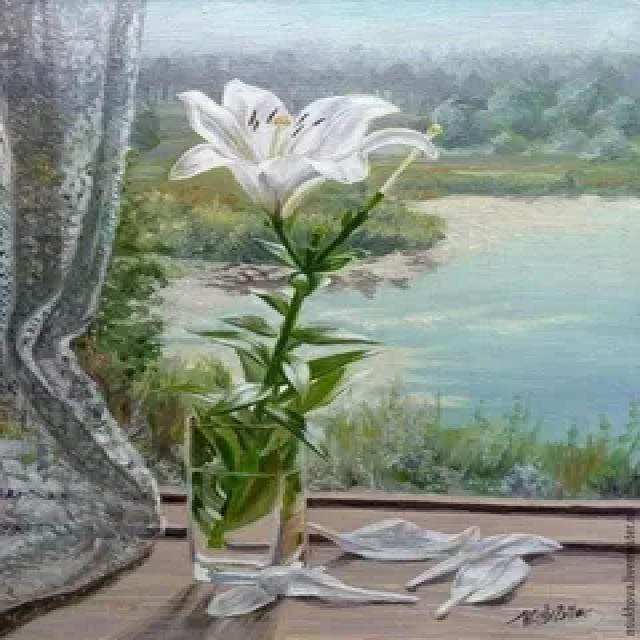lily: (160, 68, 440, 236)
